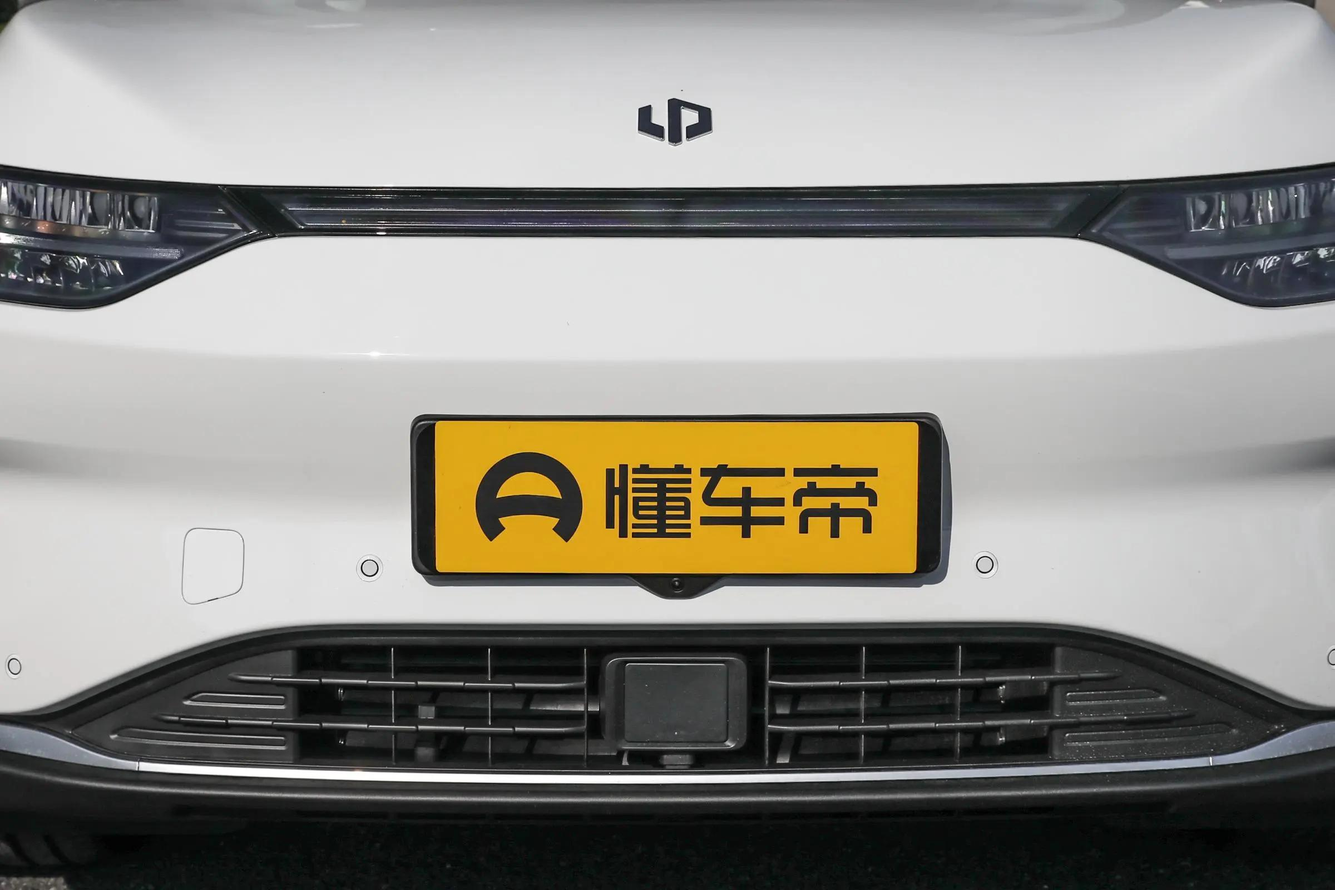LEAPMOTOR: (638, 97, 713, 145)
